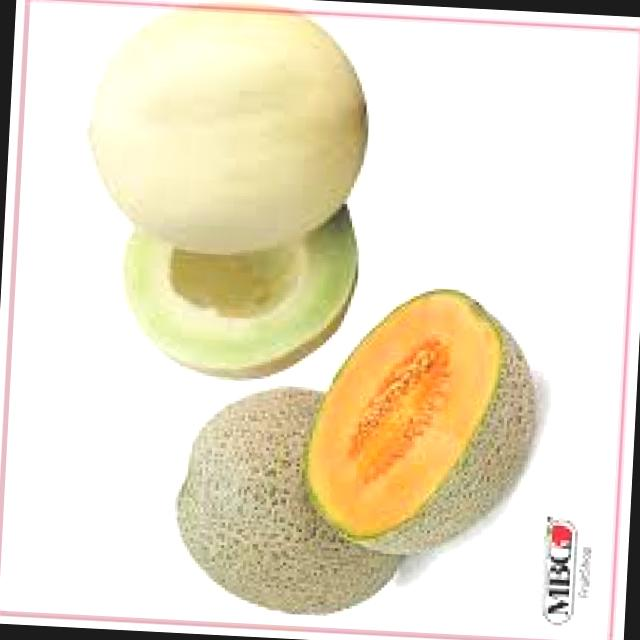cantaloupe: (302, 281, 544, 560), (170, 381, 413, 617)
